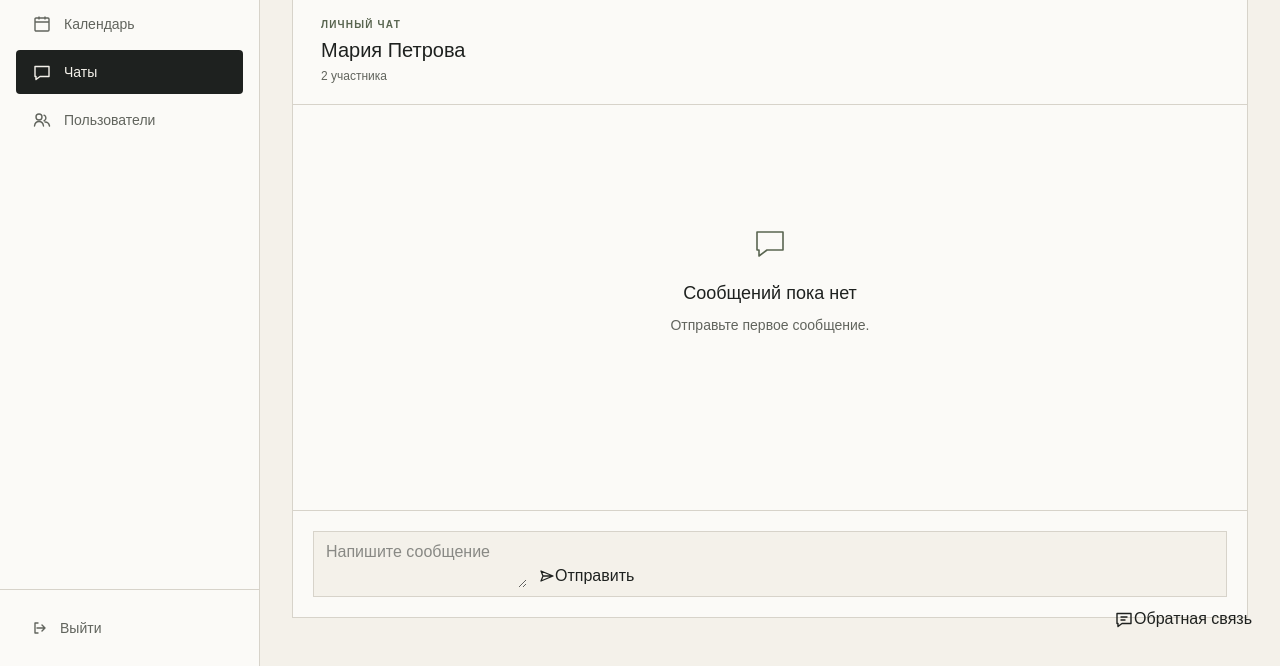
Test: Глобальные чаты и техническая обратная связь › передаёт сообщение между двумя пользователями и снимает непрочитанный статус
(page scrolled)
Type "Здравствуйте, Мария" into the text box with test id "global-chat-message" at (427, 564), box [326, 540, 527, 588]
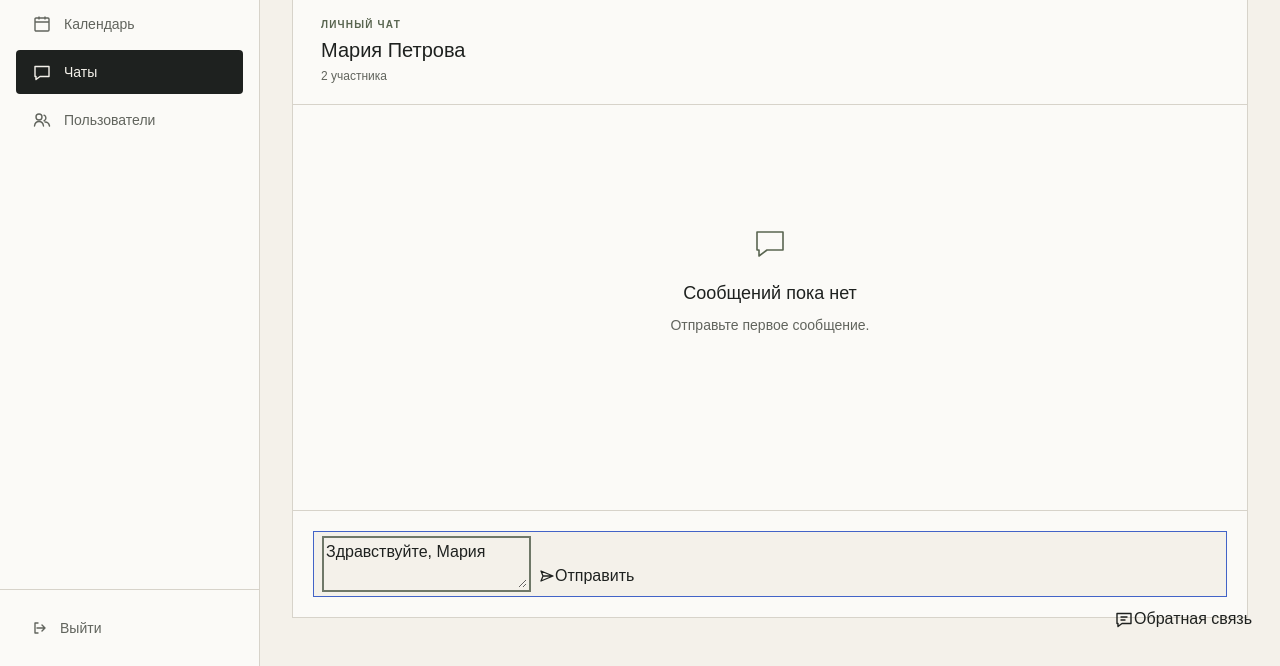
Click the button with test id "send-global-chat-message" at (547, 576), box [539, 564, 555, 588]
(page scrolled)
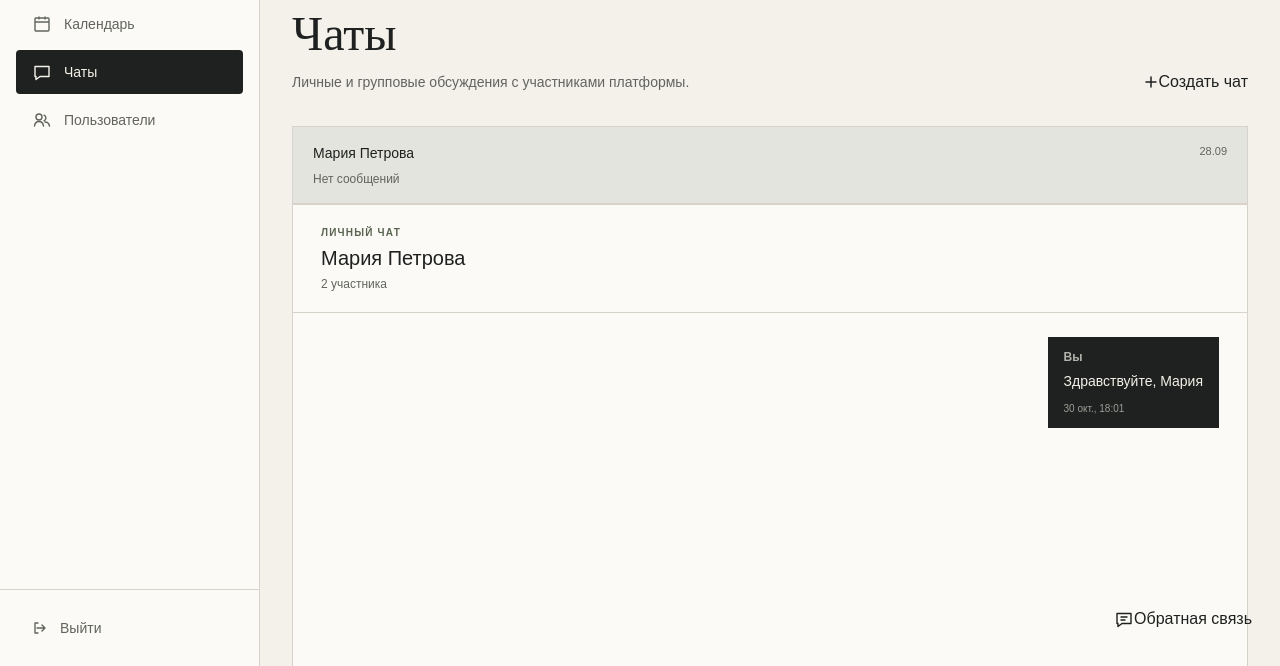
Result: the element with test id "global-chat-history" shows "Здравствуйте, Мария" at [1048, 337, 1220, 428]
Reload the page
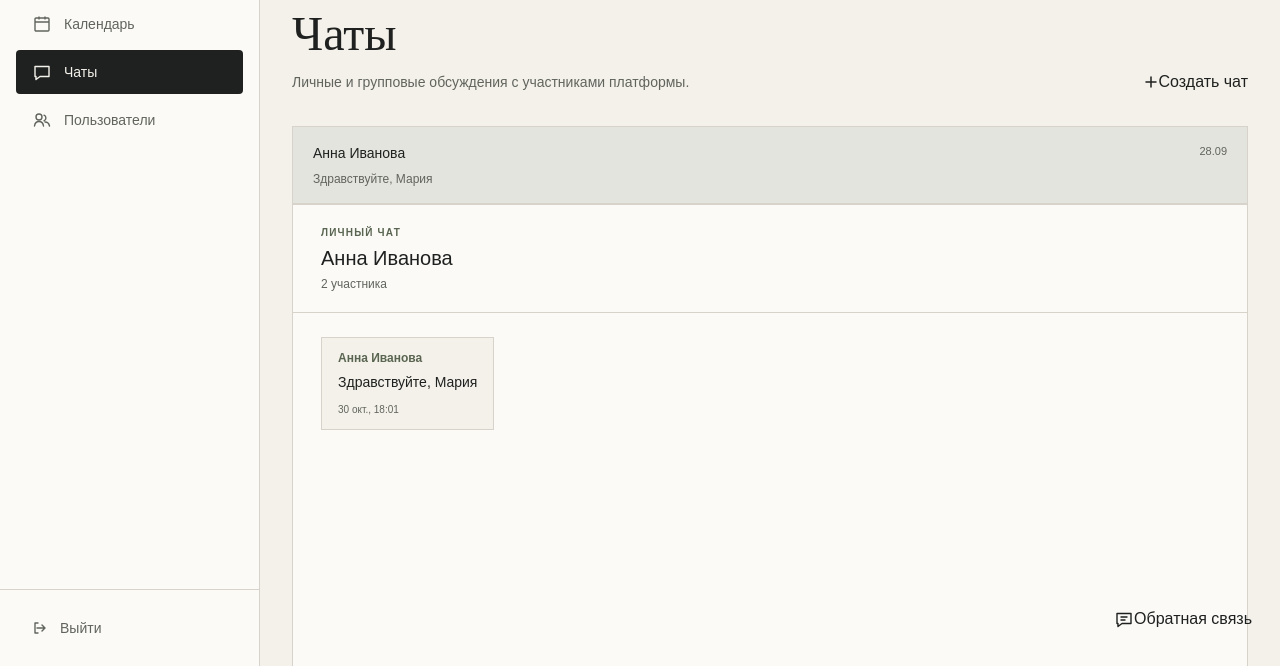
Result: the element with test id "global-chat-history" shows "Здравствуйте, Мария" at [321, 337, 495, 430]
Result: the element with test id "global-chat-conversation" shows "Анна Иванова" at [293, 205, 1247, 665]
